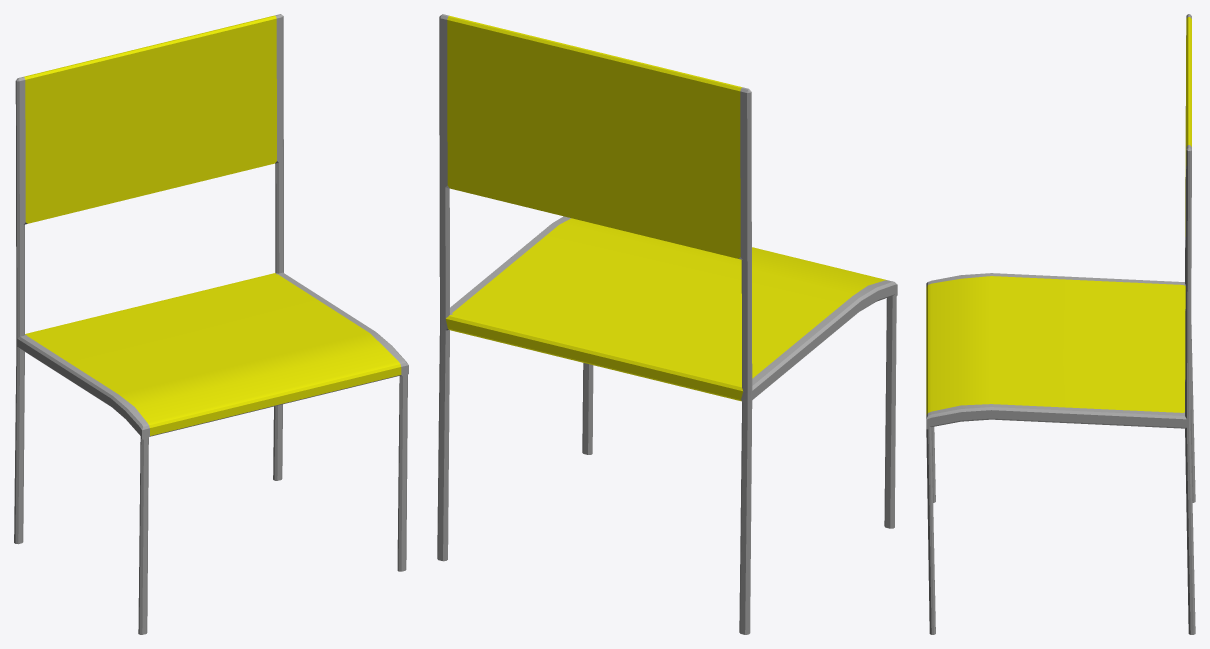
Rendered from PokemonCenter_Chair.fbx.
3 views of the same model, side by side, from view 1: azimuth 30°, elevation 25°; view 2: azimuth 150°, elevation 25°; view 3: azimuth 270°, elevation 25° (orthographic). The views are drawn at different scales.
Parts seen in each view (by area): view 1: PokemonChair; view 2: PokemonChair; view 3: PokemonChair.
Part boxes in pixels (box(x1,y1,x2,y2)): PokemonChair: box(14, 14, 408, 634); PokemonChair: box(437, 14, 897, 634); PokemonChair: box(926, 14, 1195, 634).
Bounding box in the file's own units: 1 × 1.67 × 0.8372.
